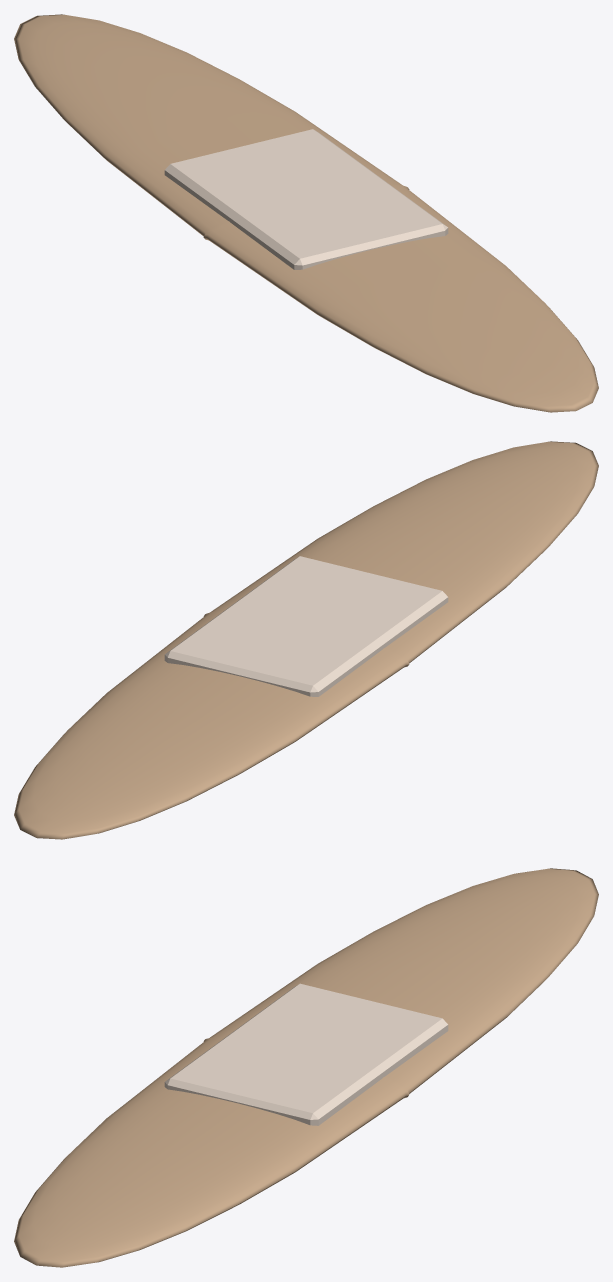
Rendered from bandage.fbx.
The picture shows the model from 3 angles, top to bottom: view 1: azimuth 30°, elevation 25°; view 2: azimuth 150°, elevation 25°; view 3: azimuth 330°, elevation 25°; orthographic projection.
Visible parts, largest first — view 1: group1; view 2: group1; view 3: group1.
Part boxes in pixels (box(x1,y1,x2,y2)): group1: box(14, 14, 598, 412); group1: box(14, 441, 598, 839); group1: box(14, 868, 598, 1267).
Size of the model in its own units: 5.46 by 0.8659 by 24.81.
